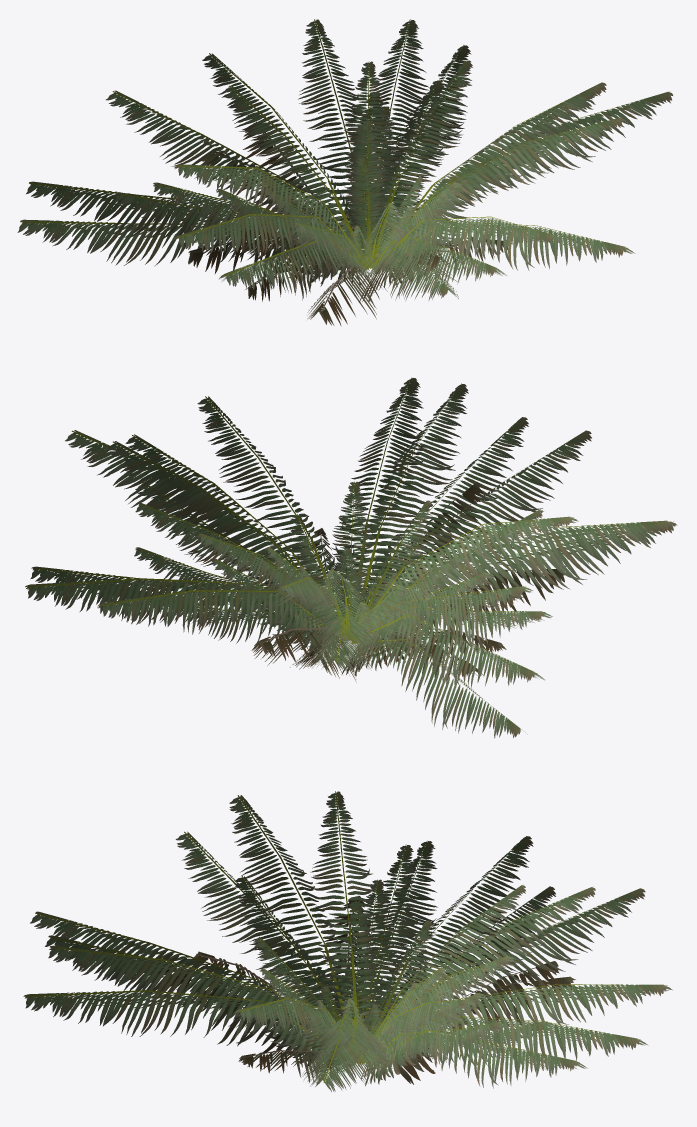
File: Fern 01_LOD3.obj
3 views of the same model, one above another, from view 1: azimuth 30°, elevation 25°; view 2: azimuth 150°, elevation 25°; view 3: azimuth 270°, elevation 25° (orthographic). The views are drawn at different scales.
Visible parts, largest first — view 1: fern leaf 01, fern leaf 02; view 2: fern leaf 01, fern leaf 02; view 3: fern leaf 01, fern leaf 02.
Part boxes in pixels (x1,y1,x2,y2): fern leaf 01: [17, 19, 672, 301]; fern leaf 02: [188, 121, 512, 326]; fern leaf 01: [25, 377, 677, 738]; fern leaf 02: [251, 482, 564, 681]; fern leaf 01: [23, 791, 672, 1091]; fern leaf 02: [150, 896, 575, 1084].
Bounding box in the file's own units: 124 × 40.38 × 120.
3 materials, 3 textured.
